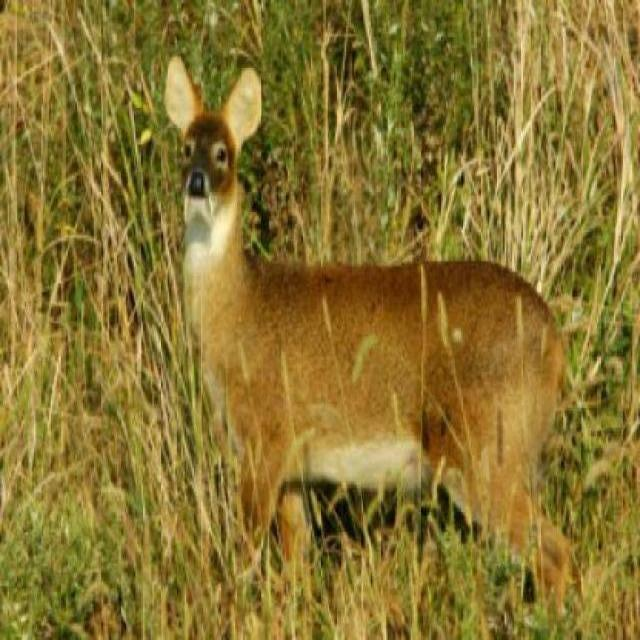deer: (150, 58, 604, 634)
